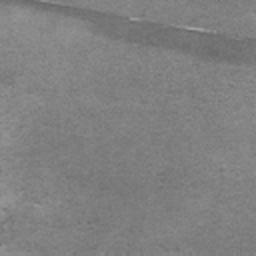Finishing roll printing: (2, 0, 256, 65)
